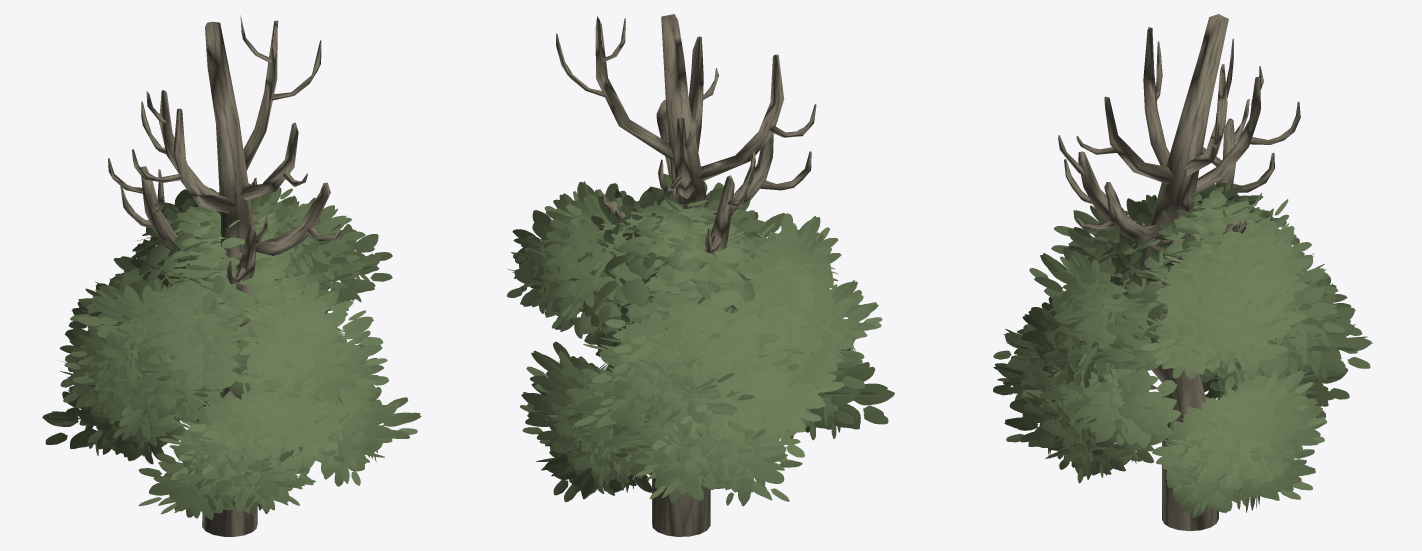
File: woodland-canopy.glb
3 views of the same model, side by side, from view 1: azimuth 30°, elevation 25°; view 2: azimuth 150°, elevation 25°; view 3: azimuth 270°, elevation 25° (orthographic). The views are drawn at different scales.
Visible parts, largest first — view 1: SM_Tree_woodland_canopy_Leaves_LOD0, SM_Tree_woodland_canopy_Bark; view 2: SM_Tree_woodland_canopy_Leaves_LOD0, SM_Tree_woodland_canopy_Bark; view 3: SM_Tree_woodland_canopy_Leaves_LOD0, SM_Tree_woodland_canopy_Bark.
Part boxes in pixels (x1,y1,x2,y2): SM_Tree_woodland_canopy_Leaves_LOD0: (42,182,421,519); SM_Tree_woodland_canopy_Bark: (108,15,341,536); SM_Tree_woodland_canopy_Leaves_LOD0: (507,173,894,506); SM_Tree_woodland_canopy_Bark: (556,14,816,536); SM_Tree_woodland_canopy_Leaves_LOD0: (993,182,1372,517); SM_Tree_woodland_canopy_Bark: (1058,14,1300,531).
Size of what is drawn, in the model's own units: 6.84 by 9 by 7.26.
Materials: 2 (2 with a texture image).
